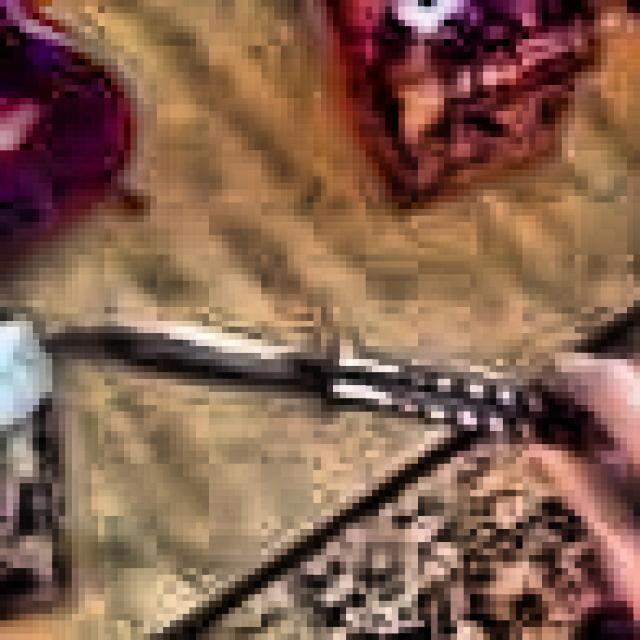knife: (34, 319, 623, 456)
